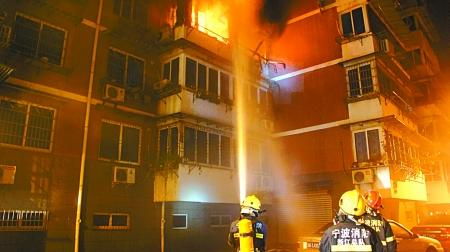fire: (187, 2, 252, 56)
